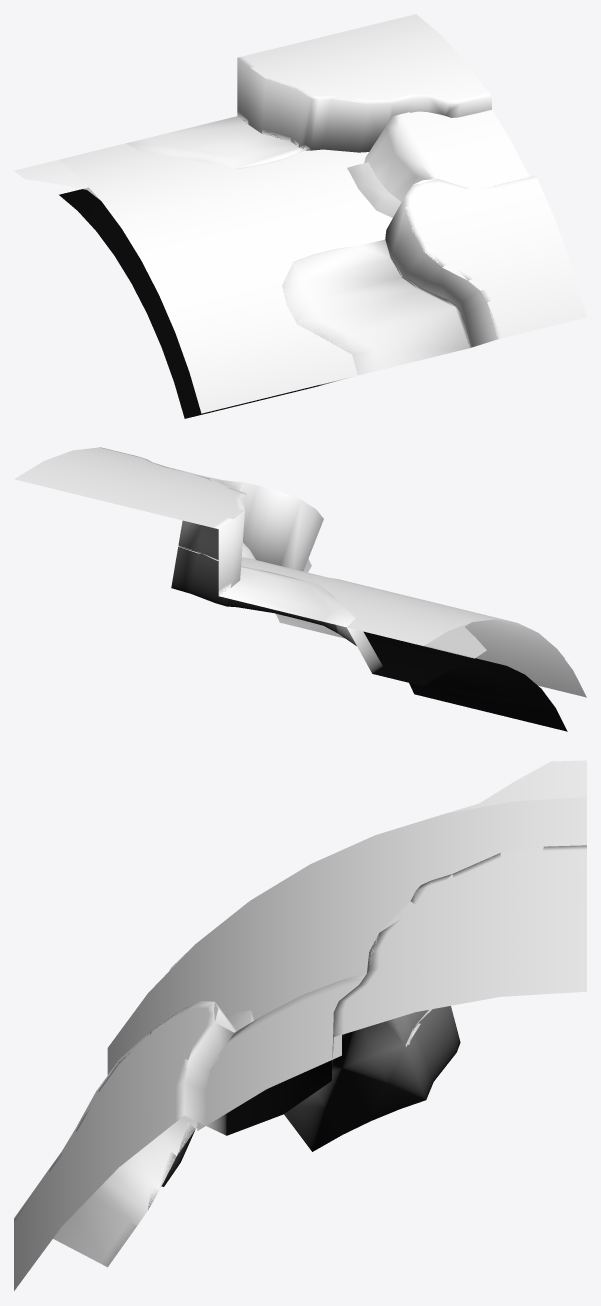
The model's file is grd_Msw_w_R_1.dae.
3 renders of one model, top to bottom at view 1: azimuth 30°, elevation 25°; view 2: azimuth 150°, elevation 25°; view 3: azimuth 270°, elevation 25°, orthographic. The views are drawn at different scales.
Parts seen in each view (by area): view 1: grd_Msw_w_R_1; view 2: grd_Msw_w_R_1; view 3: grd_Msw_w_R_1.
Boxes of the visible parts, <box> form: grd_Msw_w_R_1: <box>14,14,586,418</box>; grd_Msw_w_R_1: <box>14,447,586,731</box>; grd_Msw_w_R_1: <box>14,760,586,1290</box>.
Size of the model in its own units: 576 by 308 by 423.
Materials: 10 (1 with a texture image).
